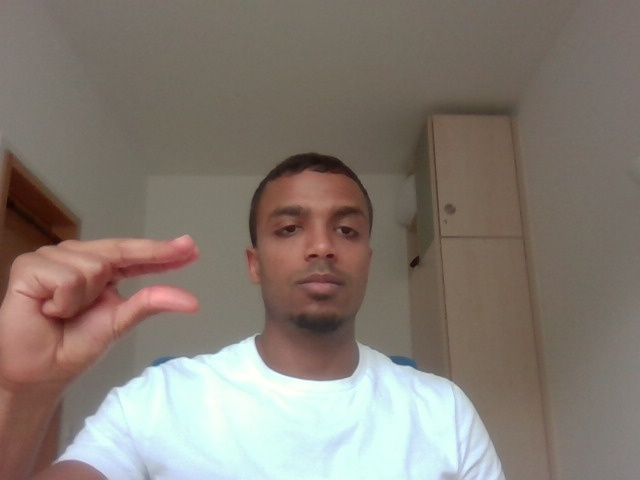never: (2, 208, 225, 391)
